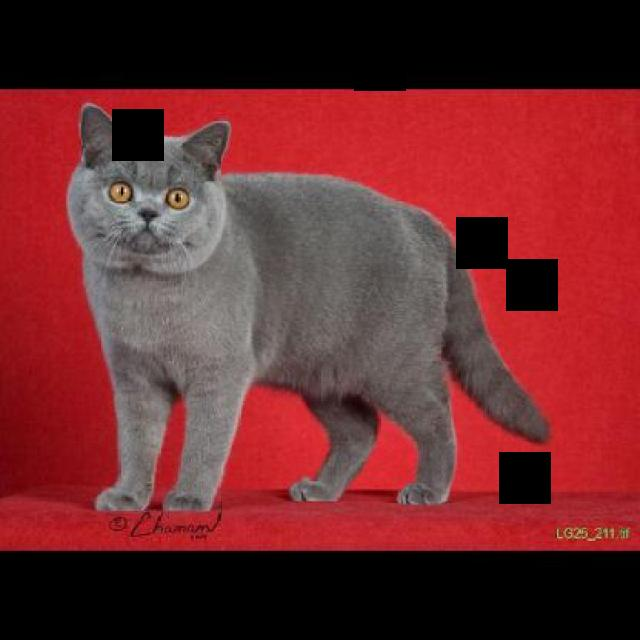unauthorized: (64, 101, 550, 512)
